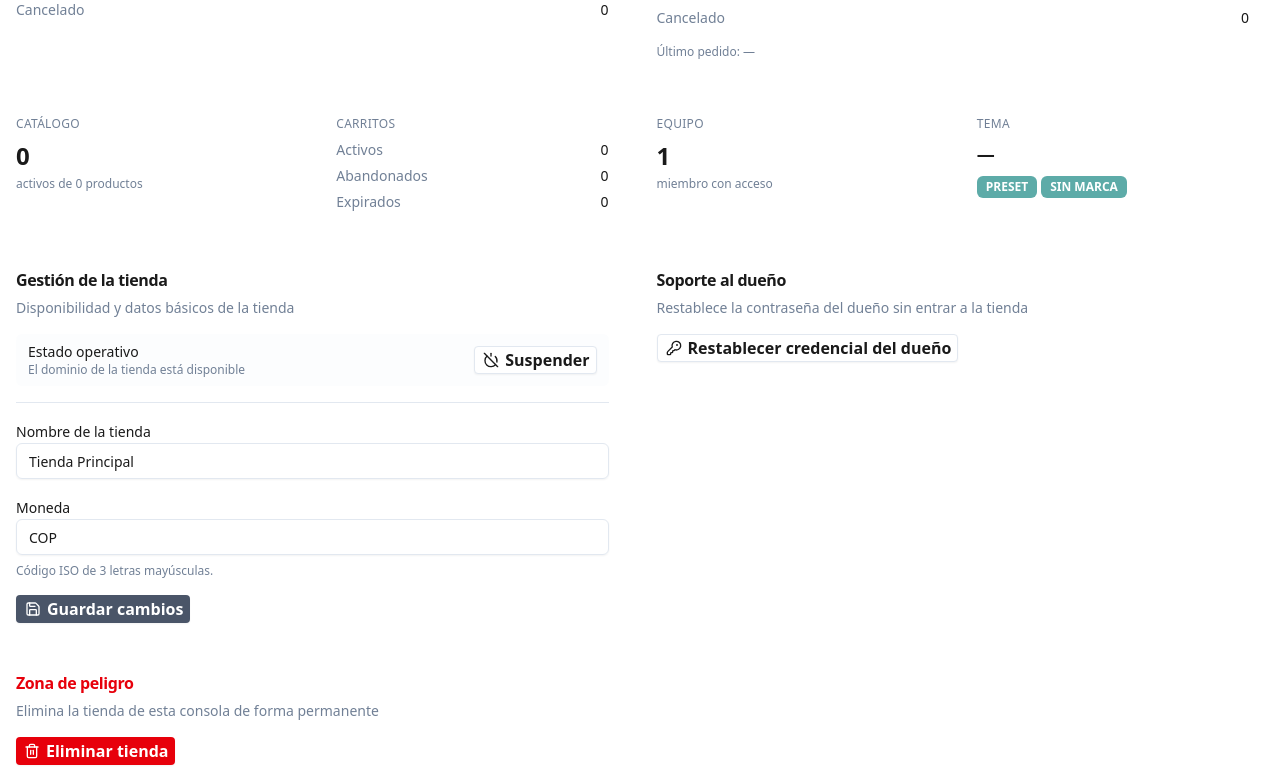
Test: DeleteTenantButton (D7c) › explains the consequences and keeps the confirm button disabled until typed
(page scrolled)
Click the button "Eliminar tienda": click(95, 751) [16, 737, 174, 765]
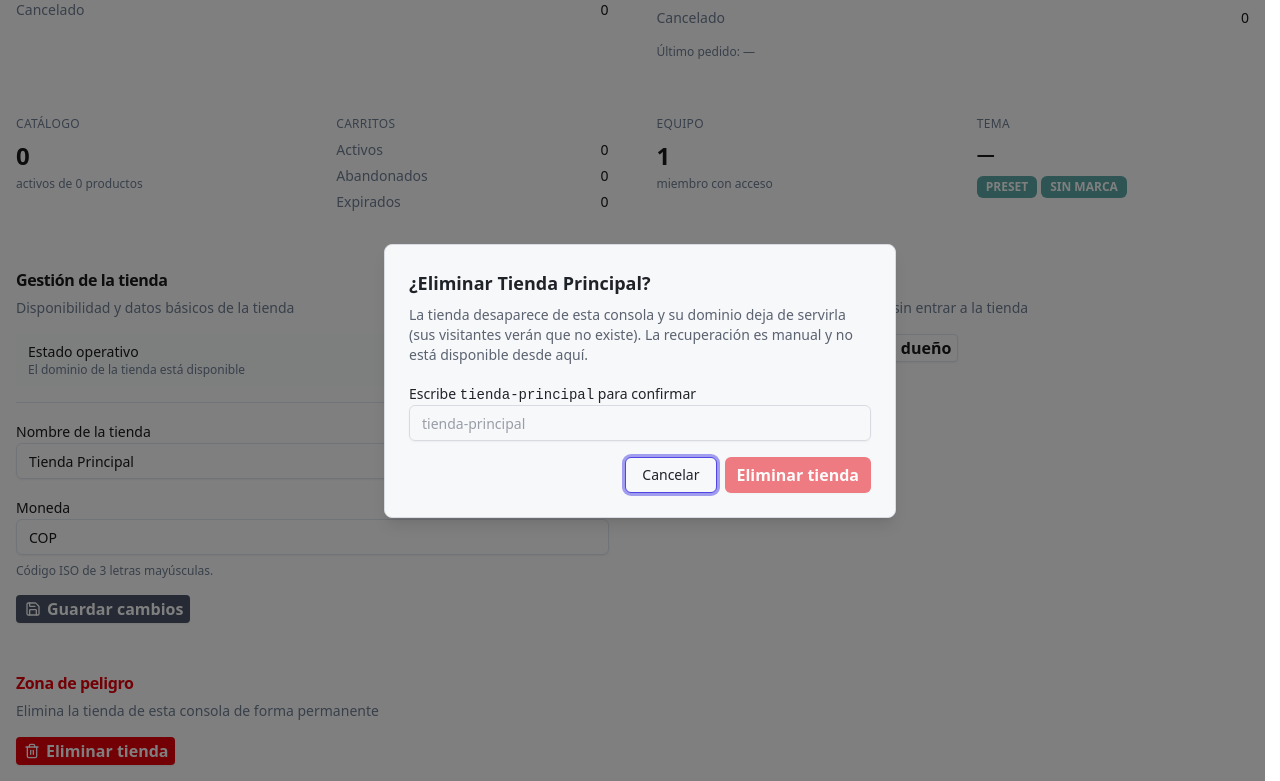
expect the text "recuperación es manual" is shown: met, box [409, 305, 853, 364]
expect the button "Eliminar tienda" is disabled: met, box [724, 457, 871, 493]
